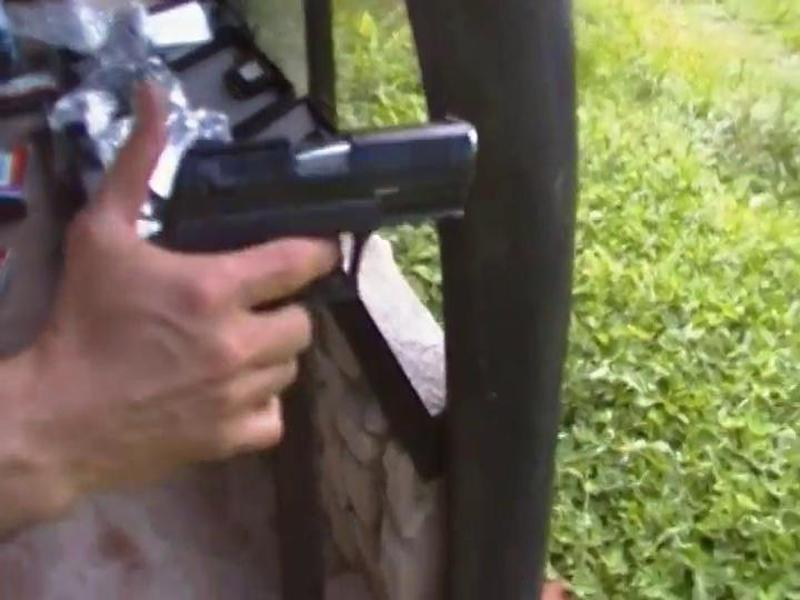Pistola: (135, 91, 483, 348)
